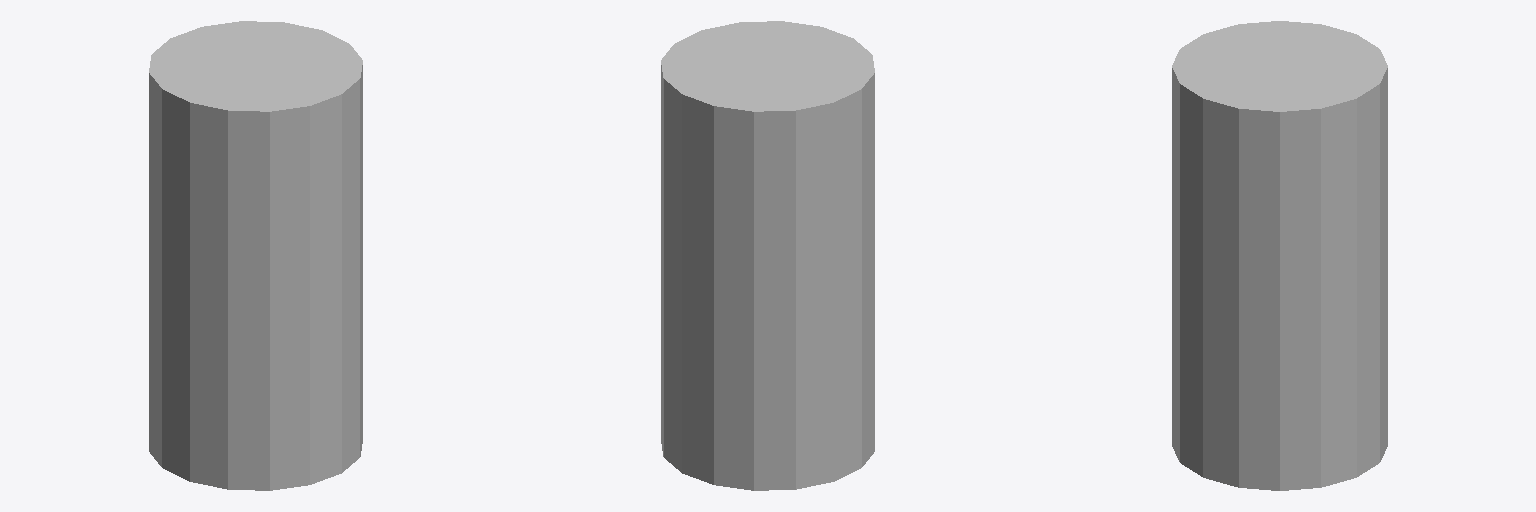
File: cilinder.obj
3 views of the same model, side by side, from view 1: azimuth 30°, elevation 25°; view 2: azimuth 150°, elevation 25°; view 3: azimuth 270°, elevation 25° (orthographic).
Parts seen in each view (by area): view 1: Cylinder; view 2: Cylinder; view 3: Cylinder.
Part boxes in pixels (left/top/right/bottom): Cylinder: left=149, top=21, right=362, bottom=490; Cylinder: left=661, top=21, right=874, bottom=490; Cylinder: left=1172, top=21, right=1387, bottom=490.
Size of the model in its own units: 1.96 by 3.79 by 1.96.